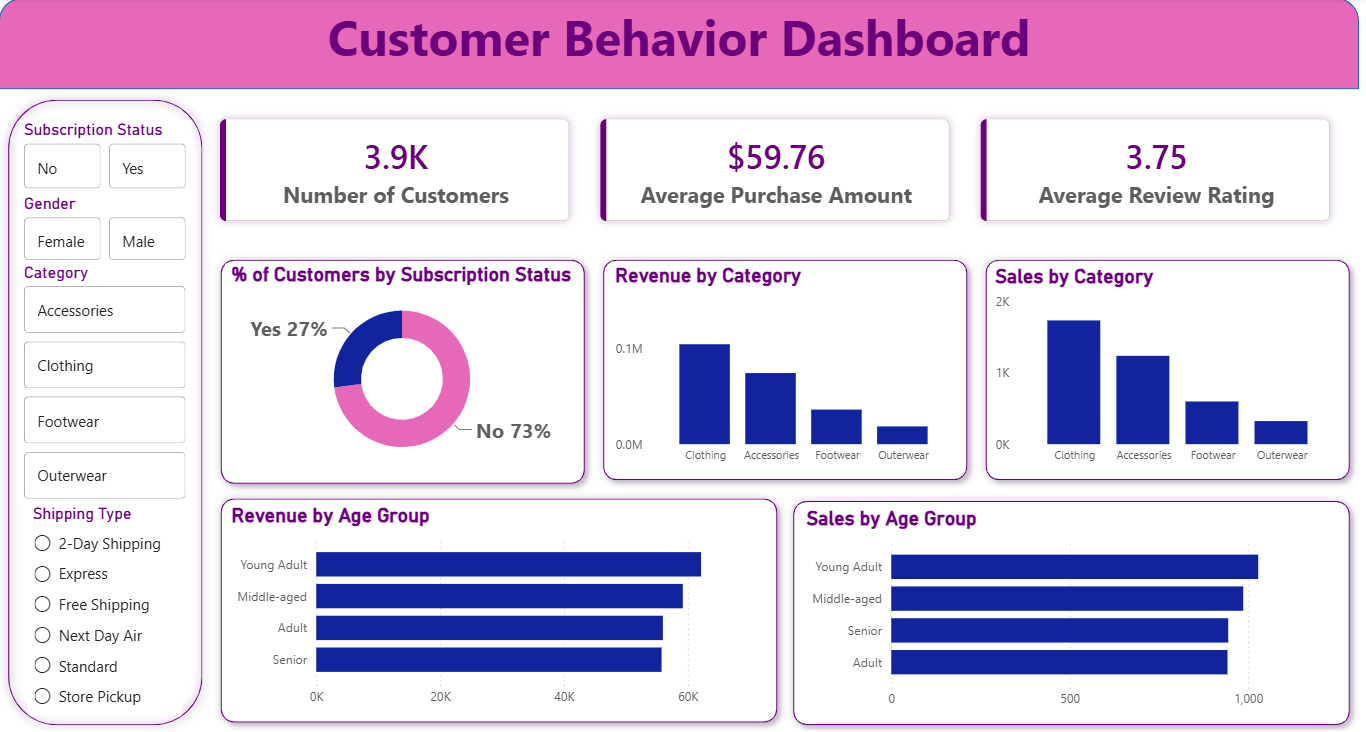

This screenshot's page, from the dashboard's own definition file:
{"tool":"powerbi","page":{"name":"Page 1","canvas":[1340,720],"ordinal":0},"visuals":[{"type":"cardVisual","fields":{"Data":["public customer.Number of Customers","public customer.Average Purchase Amount","public customer.Average Review Rating"]},"box":[188.3,90.5,1142.1,156.5],"z":0},{"type":"shape","box":[0,0,1330.4,89.3],"z":1000},{"type":"textbox","box":[0,0,1330.4,89.3],"z":2000},{"type":"shape","box":[207.9,247,374.2,237.2],"z":3000},{"type":"shape","box":[956.3,247,374.2,233.6],"z":4000},{"type":"shape","box":[582.1,247,374.2,233.6],"z":5000},{"type":"donutChart","title":"% of Customers by Subscription Status","fields":{"Category":["public customer.subscription_status"],"Y":["CountNonNull(public customer.customer_id)"]},"box":[222.6,259.2,343.6,205.4],"z":6000},{"type":"clusteredColumnChart","title":"Revenue by Category","fields":{"Y":["Sum(public customer.purchase_amount)"],"Category":["public customer.category"]},"box":[598,260.5,343.6,204.2],"z":7000},{"type":"clusteredColumnChart","title":"Sales by Category","fields":{"Category":["public customer.category"],"Y":["CountNonNull(public customer.customer_id)"]},"box":[969.7,261.7,344.8,203],"z":8000},{"type":"shape","box":[0,90,208,630],"z":9000},{"type":"advancedSlicerVisual","title":"Subscription Status","fields":{"Values":["public customer.subscription_status"]},"box":[19.6,119.8,168.8,72.1],"z":10000},{"type":"advancedSlicerVisual","fields":{"Values":["public customer.gender"]},"box":[19.6,192,168.8,69.7],"z":11000},{"type":"advancedSlicerVisual","fields":{"Values":["public customer.category"]},"box":[19.6,259.2,168.8,236],"z":11001},{"type":"listSlicer","fields":{"Values":["public customer.shipping_type"]},"box":[28.1,495.2,150.4,206.7],"z":11002},{"type":"shape","box":[207.9,480.6,562.5,237.2],"z":11005},{"type":"clusteredBarChart","title":"Revenue by Age Group","fields":{"Y":["Sum(public customer.purchase_amount)"],"Category":["public customer.age_group"]},"box":[222.6,495.2,527,206.7],"z":11006},{"type":"shape","box":[767.9,483,562.5,237.2],"z":11008},{"type":"clusteredBarChart","title":"Sales by Age Group","fields":{"Category":["public customer.age_group"],"Y":["CountNonNull(public customer.customer_id)"]},"box":[785.1,497.7,527,206.7],"z":11009}]}

Visuals, with their boxes in screenshot pixels (x1, y1, x2, y2), scaled from the page's 1340x720 canvas onto the 1366x732 screenshot:
cardVisual - public customer.Number of Customers x public customer.Average Purchase Amount: <region>192, 92, 1356, 251</region>
shape: <region>0, 0, 1356, 91</region>
textbox: <region>0, 0, 1356, 91</region>
shape: <region>212, 251, 593, 492</region>
shape: <region>975, 251, 1356, 489</region>
shape: <region>593, 251, 975, 489</region>
"% of Customers by Subscription Status" donutChart: <region>227, 264, 577, 472</region>
"Revenue by Category" clusteredColumnChart: <region>610, 265, 960, 472</region>
"Sales by Category" clusteredColumnChart: <region>989, 266, 1340, 472</region>
shape: <region>0, 92, 212, 731</region>
"Subscription Status" advancedSlicerVisual: <region>20, 122, 192, 195</region>
advancedSlicerVisual - public customer.gender: <region>20, 195, 192, 266</region>
advancedSlicerVisual - public customer.category: <region>20, 264, 192, 503</region>
listSlicer - public customer.shipping_type: <region>29, 503, 182, 714</region>
shape: <region>212, 489, 785, 730</region>
"Revenue by Age Group" clusteredBarChart: <region>227, 503, 764, 714</region>
shape: <region>783, 491, 1356, 731</region>
"Sales by Age Group" clusteredBarChart: <region>800, 506, 1338, 716</region>
